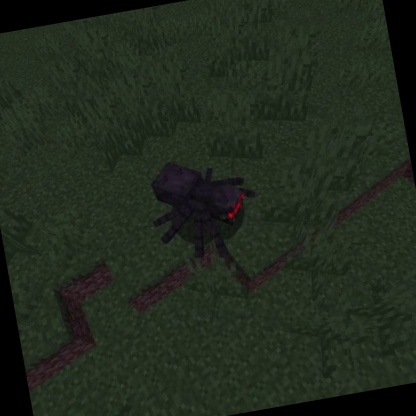spider: (139, 144, 270, 272)
